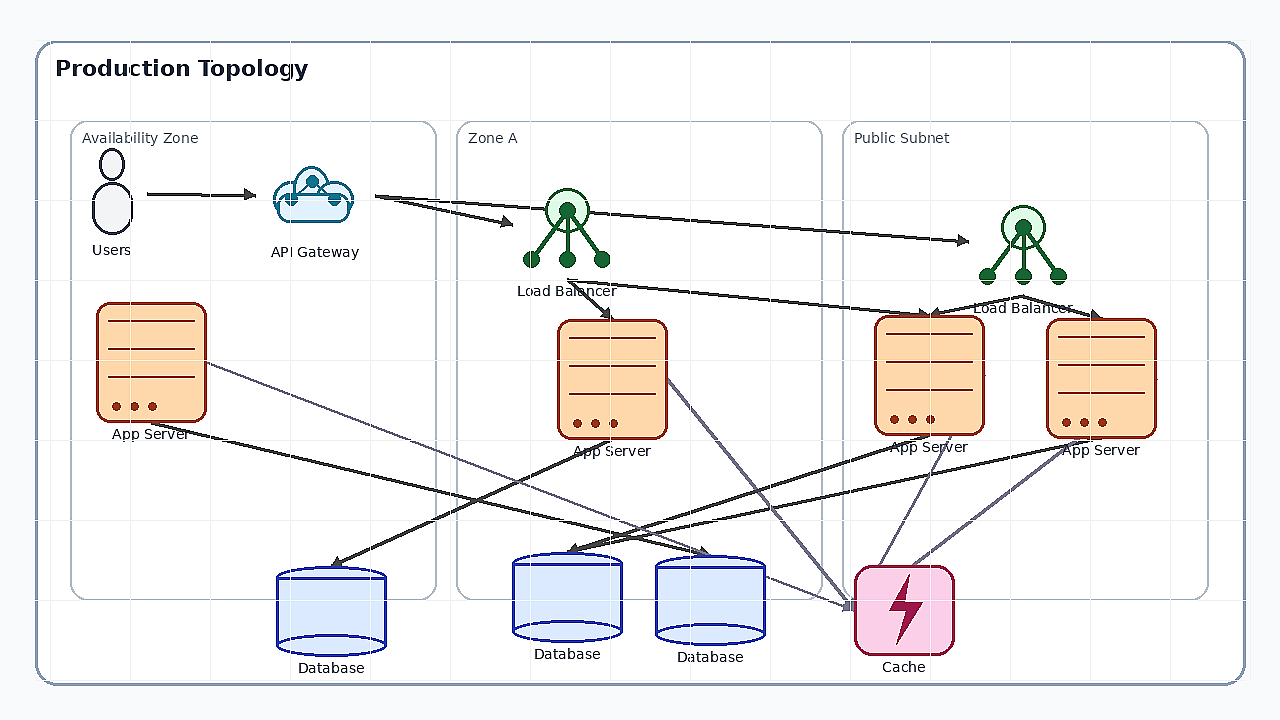API Gateway: (255, 150, 375, 240)
Application Server: (1046, 318, 1156, 438), (557, 319, 667, 439), (874, 315, 984, 435), (96, 302, 206, 422)
Cache: (854, 565, 954, 655)
Database: (276, 566, 386, 656), (512, 552, 622, 642), (655, 555, 765, 645)
Load Balancer: (512, 169, 622, 279), (968, 186, 1078, 296)
User: (77, 148, 147, 238)
